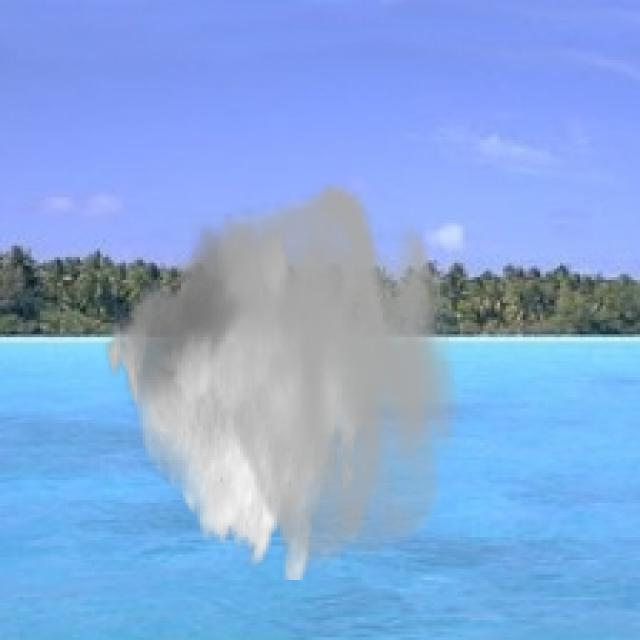smoke: (103, 177, 460, 580)
